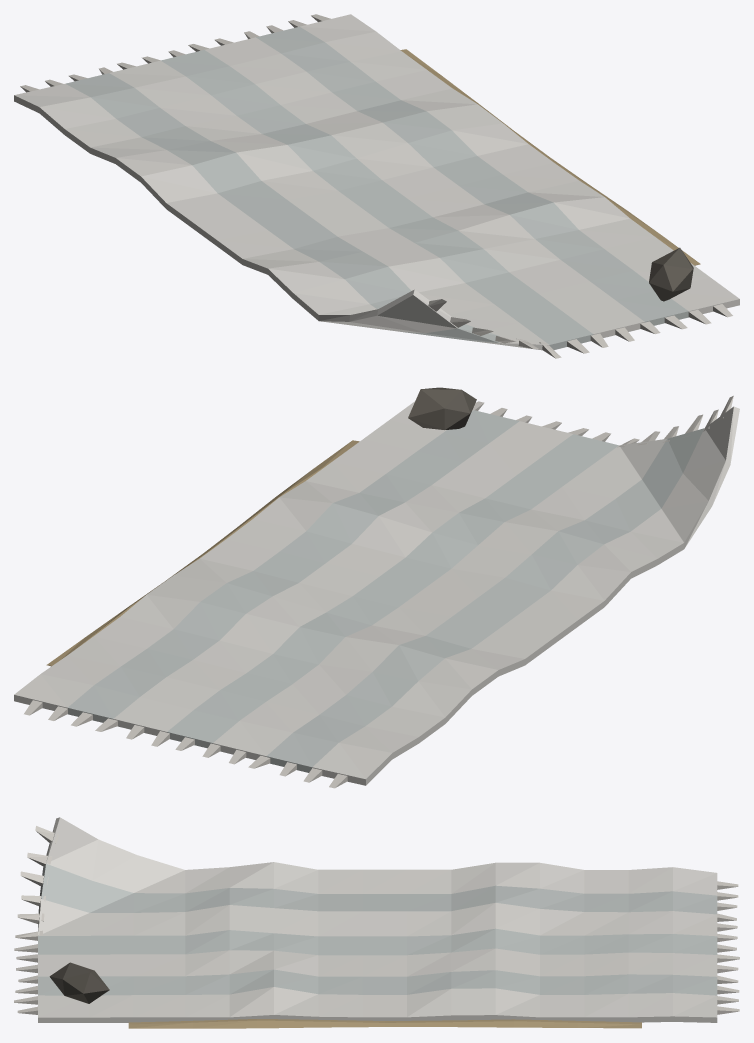
File: beach-towel-adb6c0.glb
3 views of the same model, one above another, from view 1: azimuth 30°, elevation 25°; view 2: azimuth 150°, elevation 25°; view 3: azimuth 270°, elevation 25° (orthographic). The views are drawn at different scales.
Visible parts, largest first — view 1: towel, corner-flap, pebble-stone; view 2: towel, corner-flap, pebble-stone; view 3: towel, corner-flap, pebble-stone.
Part boxes in pixels (x1,y1,x2,y2): towel: (14, 14, 739, 353); corner-flap: (318, 289, 561, 358); pebble-stone: (649, 247, 693, 301); towel: (14, 401, 684, 788); corner-flap: (617, 395, 739, 548); pebble-stone: (408, 387, 476, 429); towel: (14, 862, 739, 1028); corner-flap: (15, 817, 184, 940); pebble-stone: (49, 962, 109, 1003).
Bounding box in the file's own units: 0.9352 × 0.2121 × 1.92.
